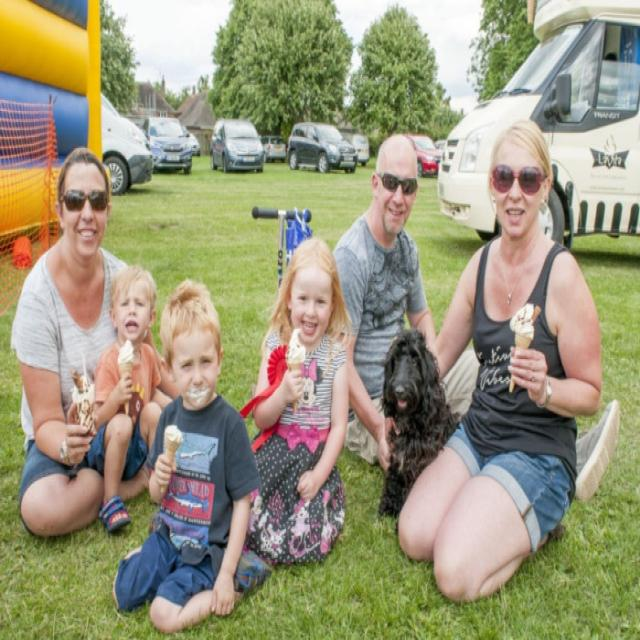body: (329, 129, 622, 504), (395, 114, 604, 603), (9, 143, 171, 537), (107, 276, 262, 634), (239, 232, 352, 566), (84, 265, 173, 533)
